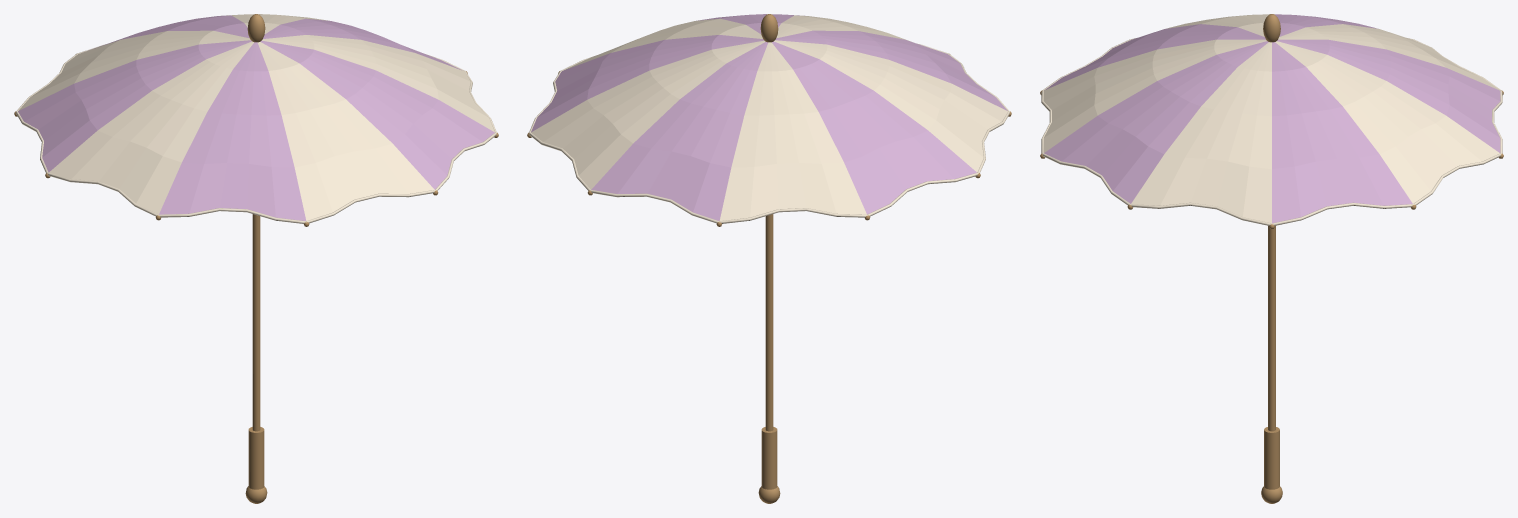
Rendered from umbrella_scalloped_parasol.glb.
The picture shows the model from 3 angles, left to right: view 1: azimuth 30°, elevation 25°; view 2: azimuth 150°, elevation 25°; view 3: azimuth 270°, elevation 25°; orthographic projection.
Visible parts, largest first — view 1: ScallopedParasol_Canopy, ScallopedParasol_Scalloped_Edge, ScallopedParasol_Wooden_Shaft, ScallopedParasol_Grip; view 2: ScallopedParasol_Canopy, ScallopedParasol_Scalloped_Edge, ScallopedParasol_Wooden_Shaft, ScallopedParasol_Grip; view 3: ScallopedParasol_Canopy, ScallopedParasol_Scalloped_Edge, ScallopedParasol_Wooden_Shaft, ScallopedParasol_Grip.
Boxes of the visible parts, <box> form: ScallopedParasol_Canopy: <box>18,14,494,220</box>; ScallopedParasol_Scalloped_Edge: <box>16,44,496,223</box>; ScallopedParasol_Wooden_Shaft: <box>252,214,260,431</box>; ScallopedParasol_Grip: <box>248,427,264,489</box>; ScallopedParasol_Canopy: <box>531,14,1007,220</box>; ScallopedParasol_Scalloped_Edge: <box>529,43,1009,223</box>; ScallopedParasol_Wooden_Shaft: <box>765,214,773,431</box>; ScallopedParasol_Grip: <box>761,427,777,489</box>; ScallopedParasol_Canopy: <box>1043,14,1500,223</box>; ScallopedParasol_Scalloped_Edge: <box>1041,38,1502,225</box>; ScallopedParasol_Wooden_Shaft: <box>1268,226,1275,431</box>; ScallopedParasol_Grip: <box>1264,427,1279,489</box>.
Bounding box in the file's own units: 0.982 × 1.09 × 0.9345.
